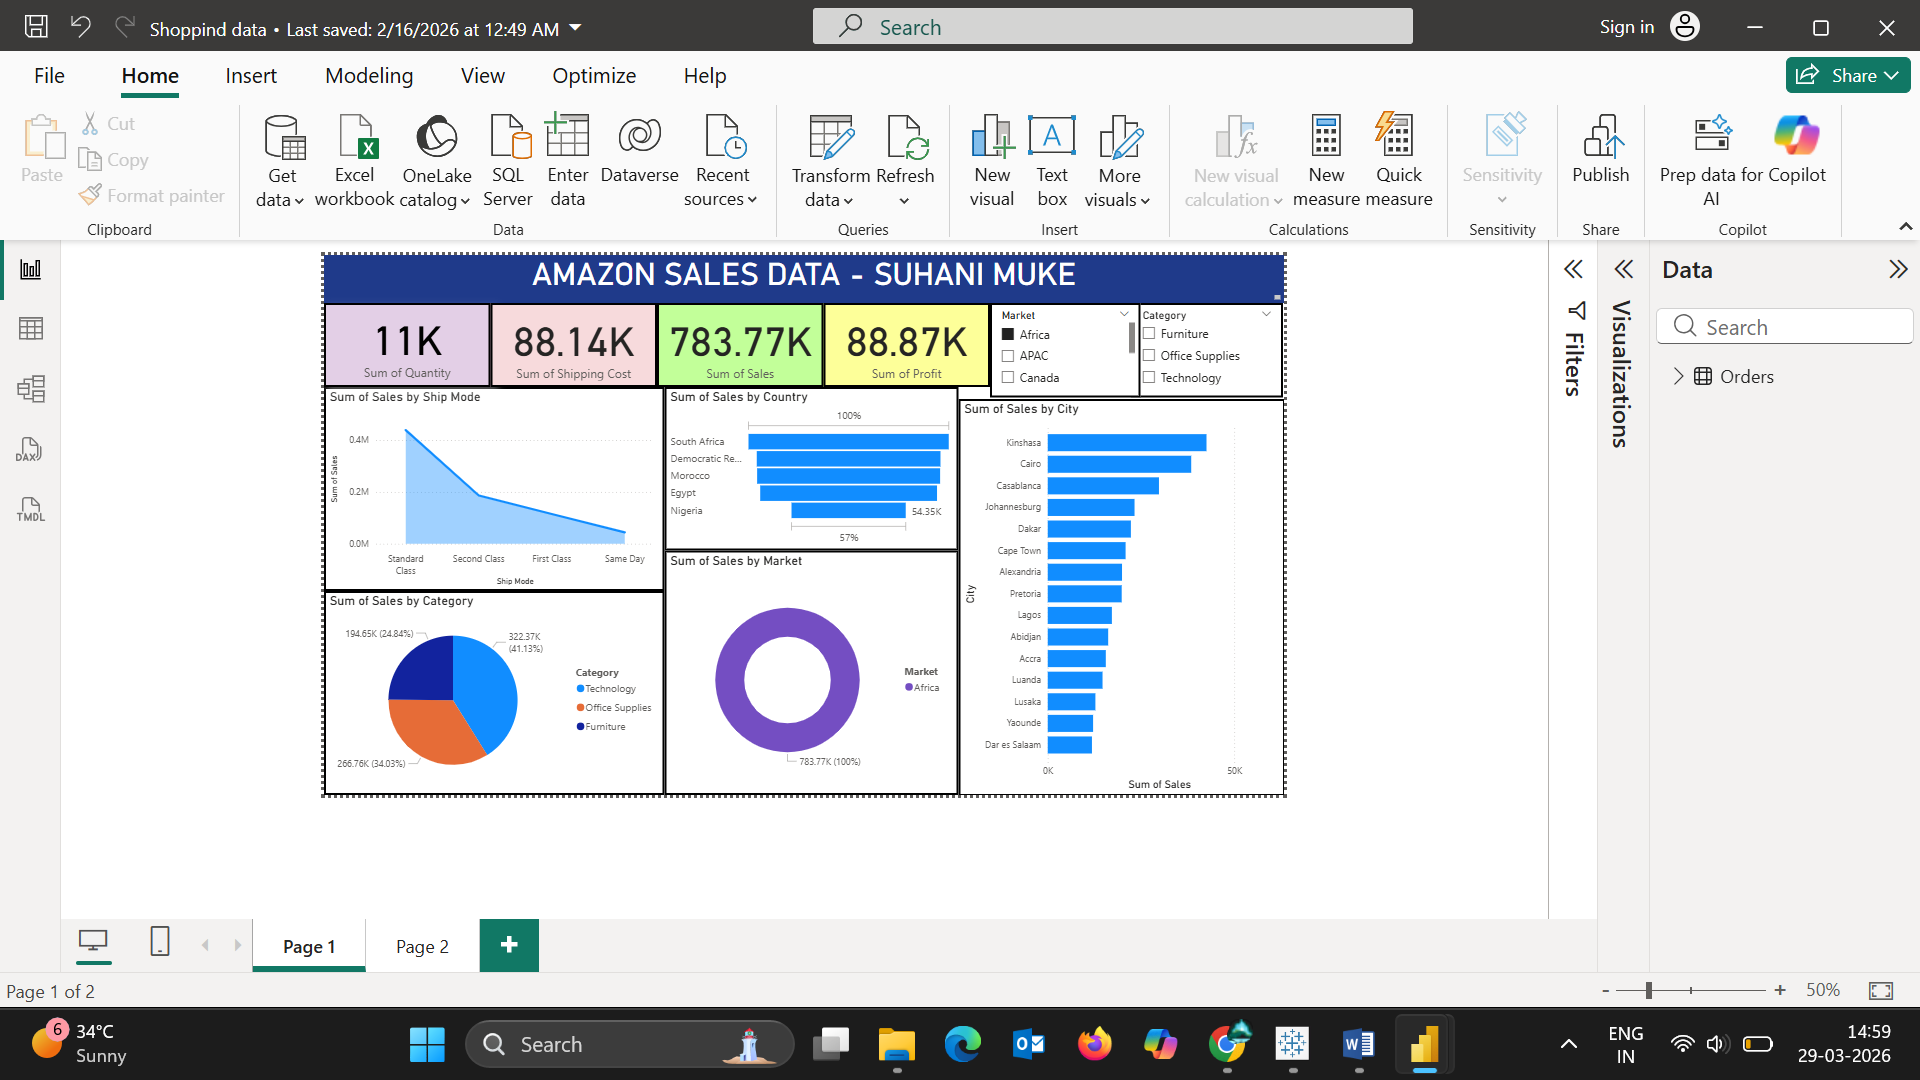

This screenshot's page, from the dashboard's own definition file:
{"tool":"powerbi","page":{"name":"Page 1","canvas":[1280,720],"ordinal":0},"visuals":[{"type":"pieChart","fields":{"Category":["Orders.Category"],"Y":["Sum(Orders.Sales)"]},"box":[0,448,454,272],"z":0},{"type":"donutChart","fields":{"Y":["Sum(Orders.Sales)"],"Category":["Orders.Market"]},"box":[454,394,392,326],"z":1000},{"type":"barChart","fields":{"Category":["Orders.City"],"Y":["Sum(Orders.Sales)"]},"box":[928,360,352,360],"z":2000},{"type":"funnel","fields":{"Category":["Orders.Country"],"Y":["Sum(Orders.Sales)"]},"box":[454,176,392,218],"z":3000},{"type":"textbox","title":"AMAZON SALES DATA - SUHANI MUKE","box":[0,0,1280,64],"z":4000},{"type":"areaChart","fields":{"Y":["Sum(Orders.Sales)"],"Category":["Orders.Ship Mode"]},"box":[0,176,454,272],"z":5000},{"type":"card","fields":{"Values":["Sum(Orders.Sales)"]},"box":[554,64,232,112],"z":6000},{"type":"card","fields":{"Values":["Sum(Orders.Quantity)"]},"box":[0,64,232,112],"z":7000},{"type":"card","fields":{"Values":["Sum(Orders.Profit)"]},"box":[988,64,232,112],"z":8000},{"type":"card","fields":{"Values":["Sum(Orders.Shipping Cost)"]},"box":[278,64,232,112],"z":9000},{"type":"slicer","fields":{"Values":["Orders.Category"]},"box":[1078,224,202,126],"z":10000},{"type":"slicer","fields":{"Values":["Orders.Market"]},"box":[876,224,202,126],"z":11000}]}

Visuals, with their boxes on the page's 1280x720 design canvas (x1, y1, x2, y2). These are canvas units, not pixel positions in the 1920x1080 screenshot, which may show the page scaled, cropped or inside an application window:
pieChart - Orders.Category x Sum(Orders.Sales): <region>0, 448, 454, 720</region>
donutChart - Sum(Orders.Sales) x Orders.Market: <region>454, 394, 846, 720</region>
barChart - Orders.City x Sum(Orders.Sales): <region>928, 360, 1280, 720</region>
funnel - Orders.Country x Sum(Orders.Sales): <region>454, 176, 846, 394</region>
"AMAZON SALES DATA - SUHANI MUKE" textbox: <region>0, 0, 1280, 64</region>
areaChart - Sum(Orders.Sales) x Orders.Ship Mode: <region>0, 176, 454, 448</region>
card - Sum(Orders.Sales): <region>554, 64, 786, 176</region>
card - Sum(Orders.Quantity): <region>0, 64, 232, 176</region>
card - Sum(Orders.Profit): <region>988, 64, 1220, 176</region>
card - Sum(Orders.Shipping Cost): <region>278, 64, 510, 176</region>
slicer - Orders.Category: <region>1078, 224, 1280, 350</region>
slicer - Orders.Market: <region>876, 224, 1078, 350</region>
